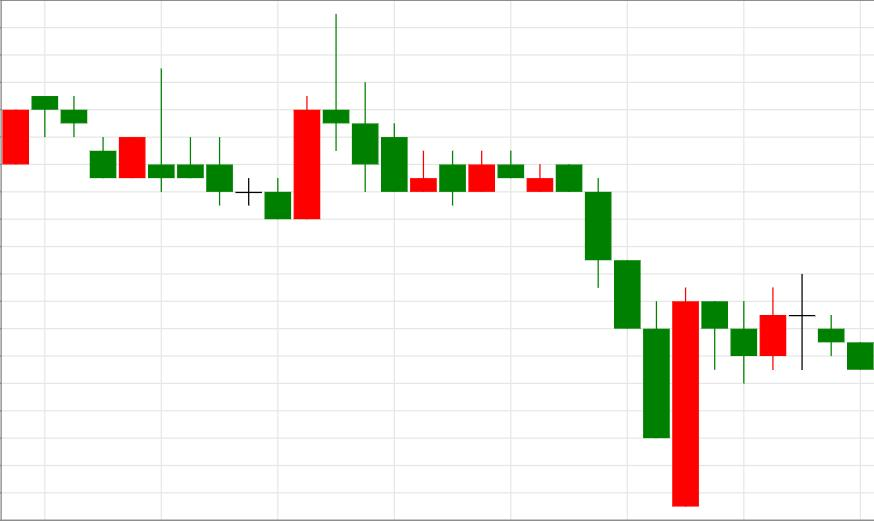bullish_engulfing_rise: (556, 164, 698, 508)
